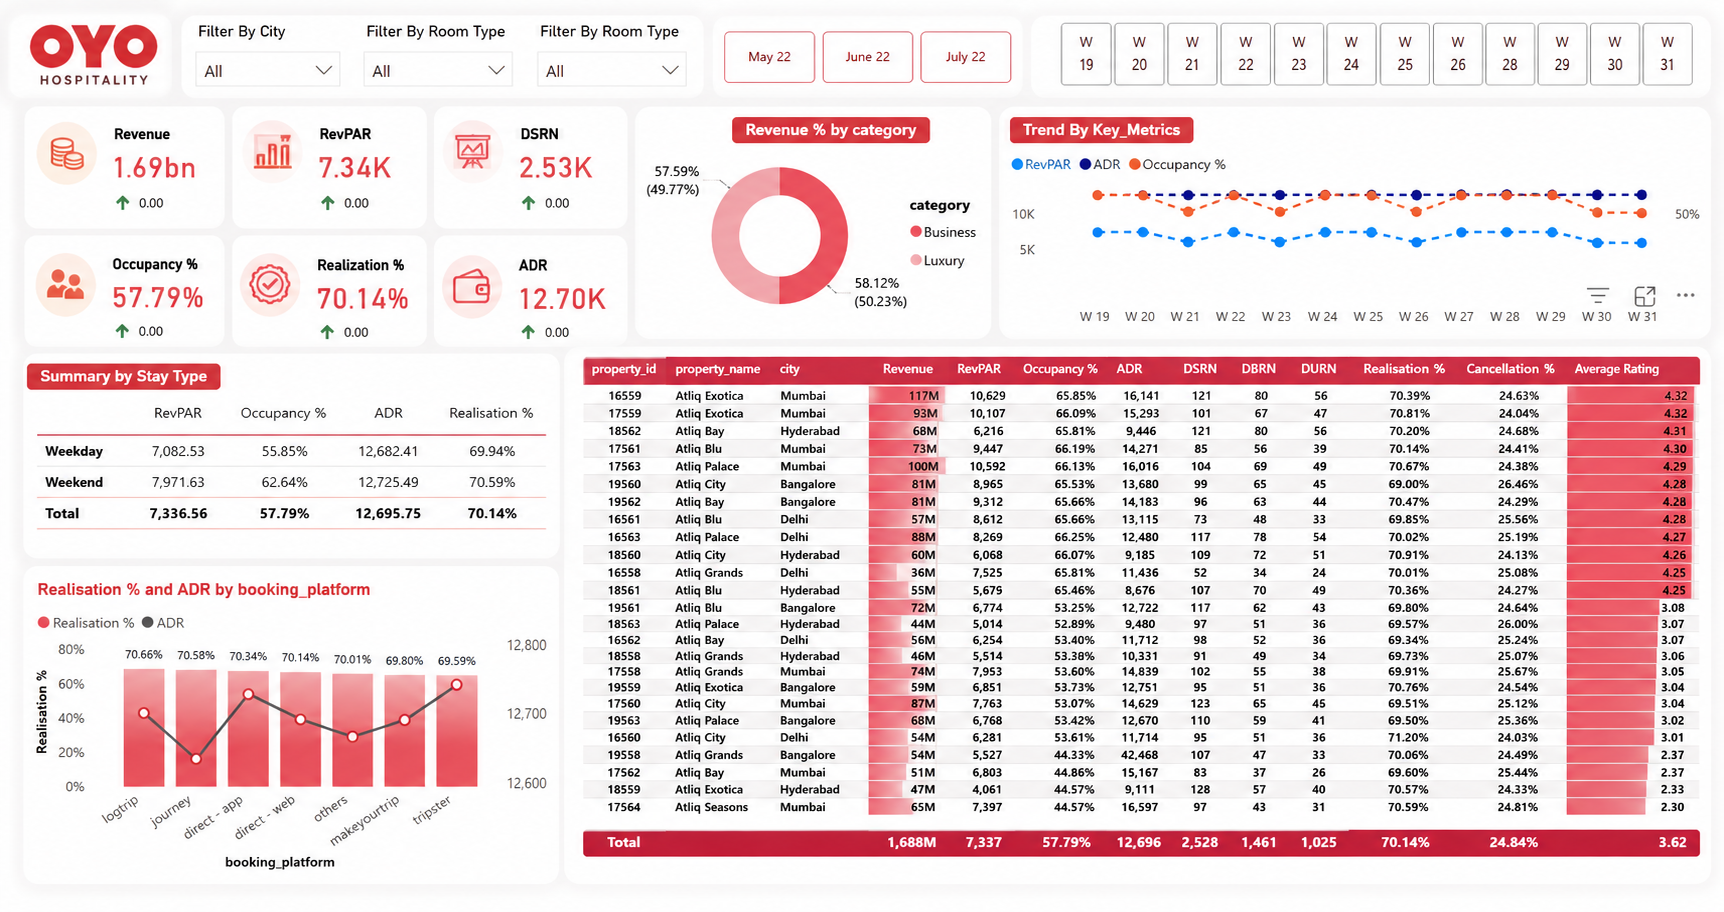

Layout of this report page (visuals, bound fields, positions):
{"tool":"powerbi","page":{"name":"main","canvas":[1800,1100],"ordinal":0},"visuals":[{"type":"shape","box":[22.7,389.6,501,378],"z":0},{"type":"shape","box":[22.4,290.6,541,81],"z":1000},{"type":"slicer","title":"Filter By City","fields":{"Values":["dim_hotels.city"]},"box":[38.4,300.6,144,63],"z":2000},{"type":"slicer","title":"Filter By Room Type","fields":{"Values":["dim_rooms.room_class"]},"box":[217.4,300.6,144,63],"z":3000},{"type":"slicer","fields":{"Values":["dim_date.mmm yy"]},"box":[855.7,245.7,301.4,62.9],"z":4000},{"type":"slicer","fields":{"Values":["dim_date.week no"]},"box":[1160,245.7,627.1,62.9],"z":5000},{"type":"card","title":"Revenue","fields":{"Values":["key_measures.Revenue"]},"box":[60.7,460.3,155.1,58.2],"z":6000},{"type":"tableEx","fields":{"Values":["key_measures.\"Revenue WoW change %"]},"box":[104,493.1,68.6,62.7],"z":7000},{"type":"donutChart","title":"Revenue % by category","fields":{"Category":["dim_hotels.category"],"Y":["key_measures.Occupancy %"]},"box":[855.7,341.4,324.3,228.6],"z":8000},{"type":"lineChart","title":"Trend By Key_Metrics","fields":{"Category":["dim_date.mmm yy.Variation.Date Hierarchy.Month","dim_date.week no"],"Y":["key_measures.RevPAR","key_measures.ADR"],"Y2":["key_measures.Occupancy %"]},"box":[1220,341.4,567.1,228.6],"z":9000},{"type":"slicer","title":"Filter By Room Type","fields":{"Values":["dim_rooms.room_class"]},"box":[397.4,301.6,144,63],"z":10000},{"type":"card","title":"Revenue","fields":{"Values":["key_measures.Revenue"]},"box":[60.7,459.5,154.4,57.4],"z":11000},{"type":"tableEx","fields":{"Values":["key_measures.\"Revenue WoW change %"]},"box":[242.7,493.1,68.6,62.7],"z":12000},{"type":"card","title":"RevPAR","fields":{"Values":["key_measures.RevPAR"]},"box":[199.4,455.8,153.6,59.7],"z":13000},{"type":"tableEx","fields":{"Values":["key_measures.\"Revenue WoW change %"]},"box":[382.9,493.1,68.6,62.7],"z":14000},{"type":"card","title":"DSRN","fields":{"Values":["key_measures.DSRN"]},"box":[339.7,455.8,155.1,59.7],"z":15000},{"type":"tableEx","fields":{"Values":["key_measures.\"Revenue WoW change %"]},"box":[241.2,578.1,68.6,62.7],"z":16000},{"type":"tableEx","fields":{"Values":["key_measures.\"Revenue WoW change %"]},"box":[382.9,578.1,68.6,62.7],"z":17000},{"type":"tableEx","fields":{"Values":["key_measures.\"Revenue WoW change %"]},"box":[104,578.1,68.6,62.7],"z":18000},{"type":"card","title":"Realization %","fields":{"Values":["key_measures.Realisation %"]},"box":[198,545.3,155.1,58.2],"z":19000},{"type":"card","title":"ADR","fields":{"Values":["key_measures.ADR"]},"box":[339.7,545.3,153.6,58.2],"z":20000},{"type":"card","title":"Occupancy %","fields":{"Values":["key_measures.Occupancy %"]},"box":[60.7,545.3,155.1,58.2],"z":21000},{"type":"tableEx","fields":{"Values":["dim_hotels.property_id","dim_hotels.property_name","dim_hotels.city","key_measures.Revenue","key_measures.RevPAR","key_measures.Occupancy %","key_measures.ADR","key_measures.DSRN","key_measures.DBRN","key_measures.DURN","key_measures.Realisation %","key_measures.Cancellation %"]},"box":[856,583,932,505],"z":22000},{"type":"lineStackedColumnComboChart","fields":{"Category":["fact_bookings.booking_platform"],"Y":["key_measures.Realisation %"],"Y2":["key_measures.ADR"]},"box":[22.9,791.4,805.7,297.1],"z":23000},{"type":"tableEx","fields":{"Values":["dim_date.day_type","key_measures.RevPAR","key_measures.Occupancy %","key_measures.ADR","key_measures.Realisation %"]},"box":[67.7,628.6,411,116],"z":24000},{"type":"textbox","box":[521.4,135.7,757.1,65.7],"z":24001},{"type":"columnChart","fields":{"Category":["dim_date.mmm yy.Variation.Date Hierarchy.Month","dim_date.mmm yy.Variation.Date Hierarchy.Day"],"Y":["key_measures.Revenue"]},"box":[535.7,390,292.9,378.6],"z":24002}]}

Visuals, with their boxes on the page's 1800x1100 design canvas (x1, y1, x2, y2). These are canvas units, not pixel positions in the 1724x912 screenshot, which may show the page scaled, cropped or inside an application window:
shape: BBox(23, 390, 524, 768)
shape: BBox(22, 291, 563, 372)
"Filter By City" slicer: BBox(38, 301, 182, 364)
"Filter By Room Type" slicer: BBox(217, 301, 361, 364)
slicer - dim_date.mmm yy: BBox(856, 246, 1157, 309)
slicer - dim_date.week no: BBox(1160, 246, 1787, 309)
"Revenue" card: BBox(61, 460, 216, 518)
tableEx - key_measures."Revenue WoW change %: BBox(104, 493, 173, 556)
"Revenue % by category" donutChart: BBox(856, 341, 1180, 570)
"Trend By Key_Metrics" lineChart: BBox(1220, 341, 1787, 570)
"Filter By Room Type" slicer: BBox(397, 302, 541, 365)
"Revenue" card: BBox(61, 460, 215, 517)
tableEx - key_measures."Revenue WoW change %: BBox(243, 493, 311, 556)
"RevPAR" card: BBox(199, 456, 353, 516)
tableEx - key_measures."Revenue WoW change %: BBox(383, 493, 452, 556)
"DSRN" card: BBox(340, 456, 495, 516)
tableEx - key_measures."Revenue WoW change %: BBox(241, 578, 310, 641)
tableEx - key_measures."Revenue WoW change %: BBox(383, 578, 452, 641)
tableEx - key_measures."Revenue WoW change %: BBox(104, 578, 173, 641)
"Realization %" card: BBox(198, 545, 353, 604)
"ADR" card: BBox(340, 545, 493, 604)
"Occupancy %" card: BBox(61, 545, 216, 604)
tableEx - dim_hotels.property_id x dim_hotels.property_name: BBox(856, 583, 1788, 1088)
lineStackedColumnComboChart - fact_bookings.booking_platform x key_measures.Realisation %: BBox(23, 791, 829, 1088)
tableEx - dim_date.day_type x key_measures.RevPAR: BBox(68, 629, 479, 745)
textbox: BBox(521, 136, 1278, 201)
columnChart - dim_date.mmm yy.Variation.Date Hierarchy.Month x dim_date.mmm yy.Variation.Date Hierarchy.Day: BBox(536, 390, 829, 769)
